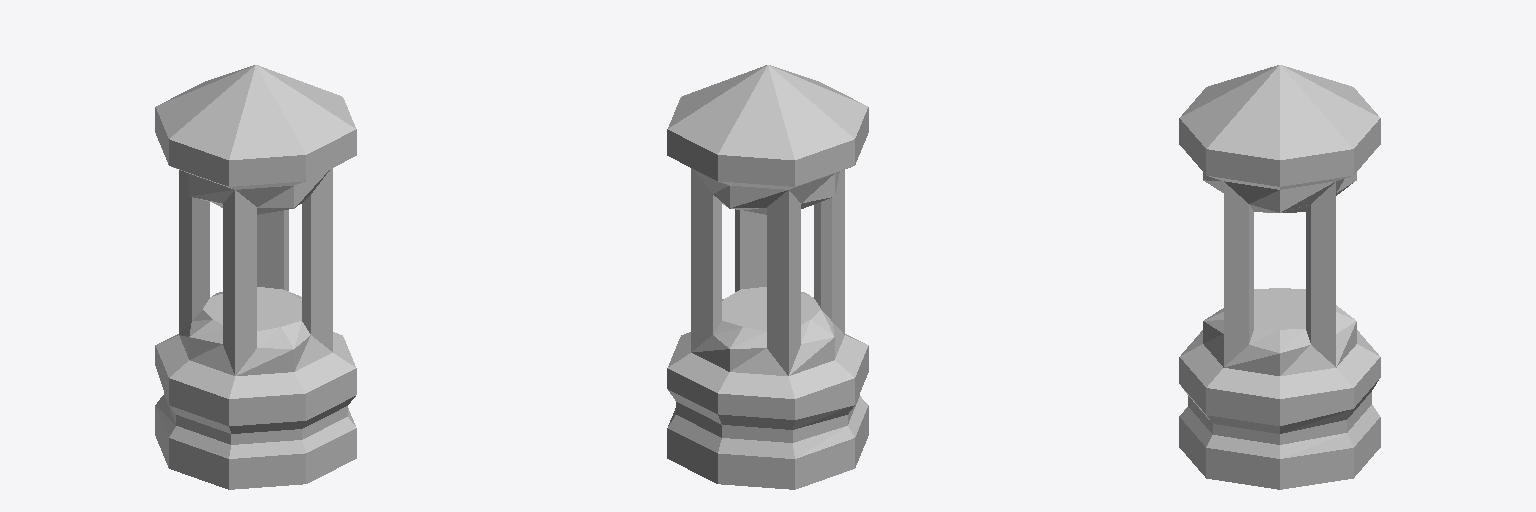
Rendered from shrine.obj.
3 renders of one model, left to right at view 1: azimuth 30°, elevation 25°; view 2: azimuth 150°, elevation 25°; view 3: azimuth 270°, elevation 25°, orthographic.
Visible parts, largest first — view 1: shrine_Cube.015; view 2: shrine_Cube.015; view 3: shrine_Cube.015.
Boxes of the visible parts, <box> form: shrine_Cube.015: <box>155,65,356,489</box>; shrine_Cube.015: <box>667,65,868,489</box>; shrine_Cube.015: <box>1179,65,1380,489</box>.
Size of the model in its own units: 1.09 by 2.29 by 1.09.